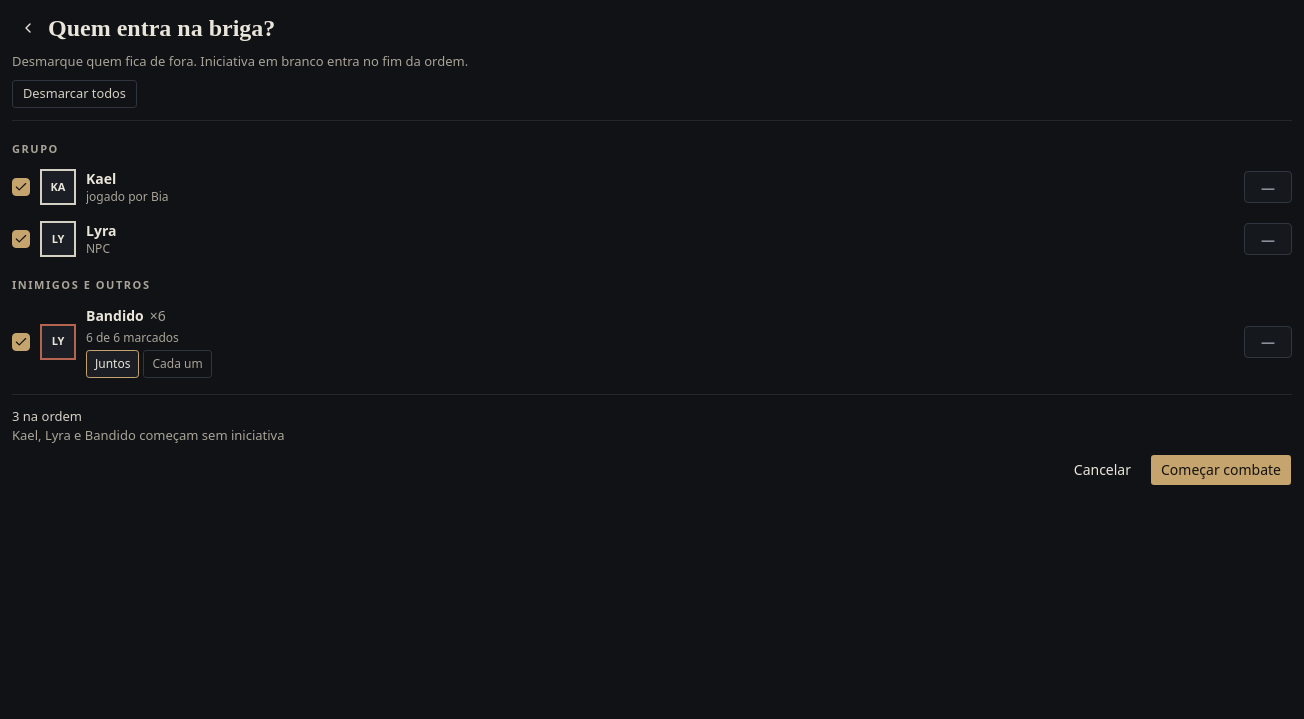
it: CombatPrep › "Juntos" has one field for the group; "Cada um" one per bandit
The width and height of the screenshot is (1304, 719).
Check: the field named "Iniciativa de Bandido" is shown, box 1244,326 -> 1292,358
Click the radio button labelled "Cada um": x=178, y=364 144,350 -> 212,378
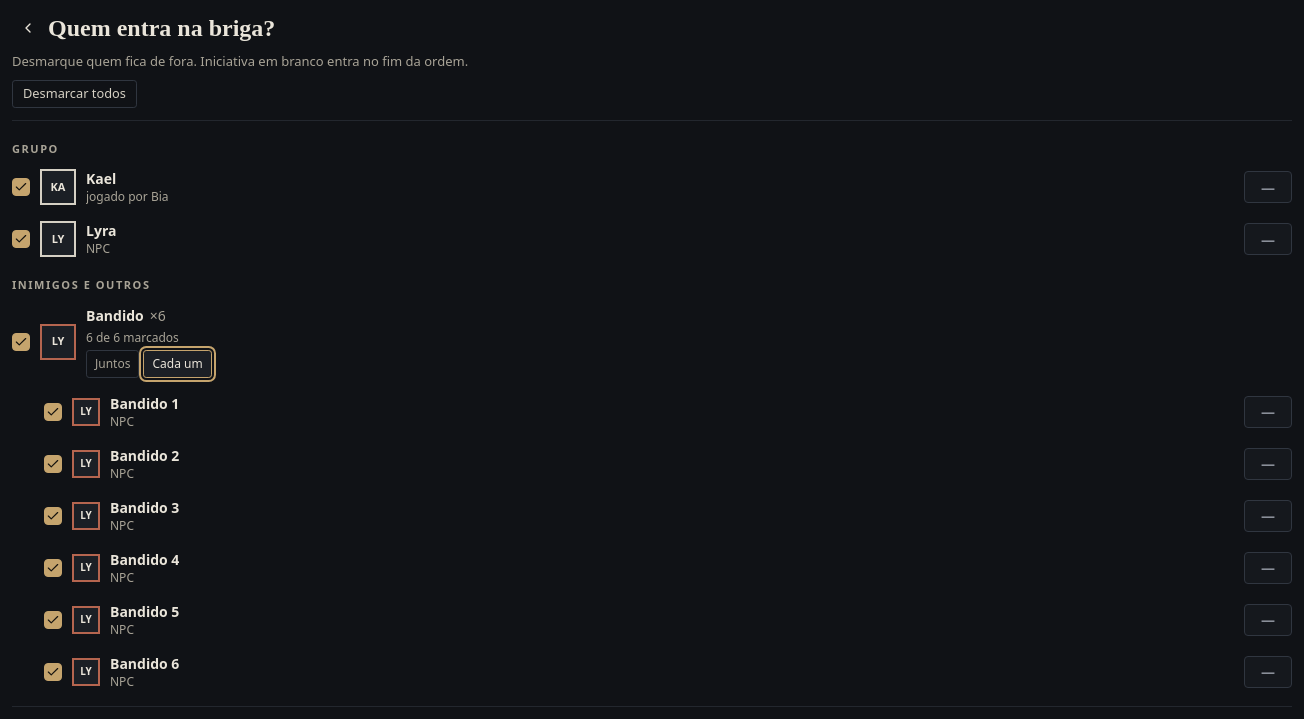
Check: the number of fields labelled "—" is 6, box 1244,396 -> 1292,428; 1244,448 -> 1292,480; 1244,500 -> 1292,532; 1244,552 -> 1292,584; 1244,604 -> 1292,636; 1244,656 -> 1292,688
